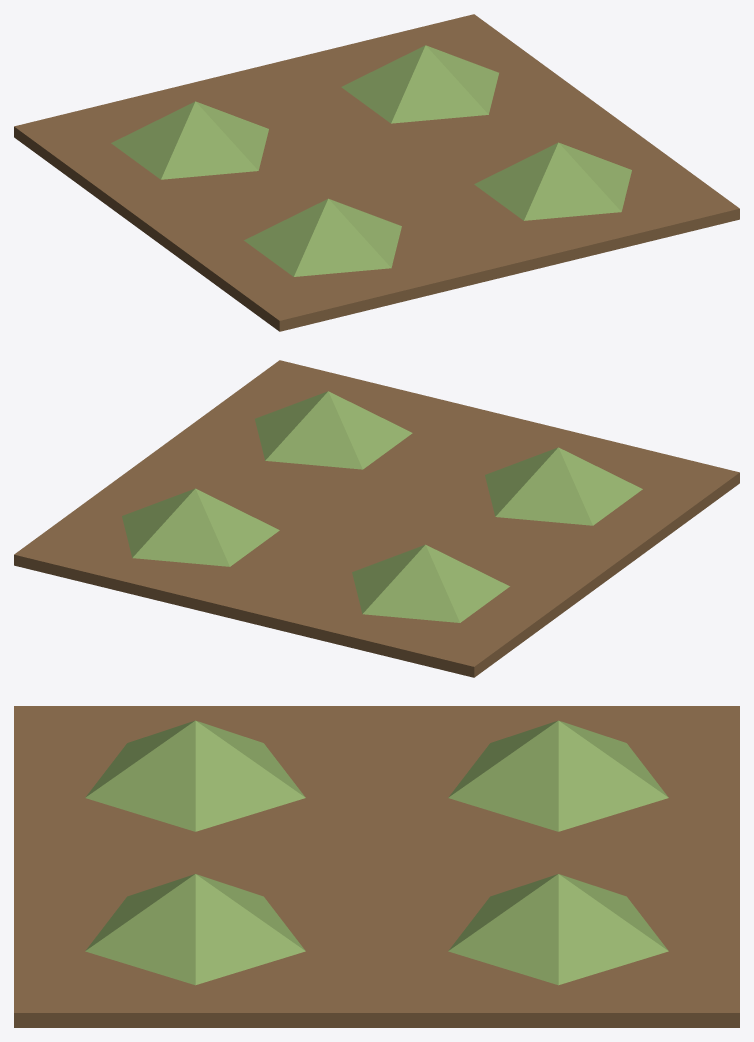
Rendered from deco_park.glb.
The picture shows the model from 3 angles, top to bottom: view 1: azimuth 30°, elevation 25°; view 2: azimuth 150°, elevation 25°; view 3: azimuth 270°, elevation 25°; orthographic projection. The views are drawn at different scales.
Bounding box in the file's own units: 5.28 × 0.62 × 5.28.
